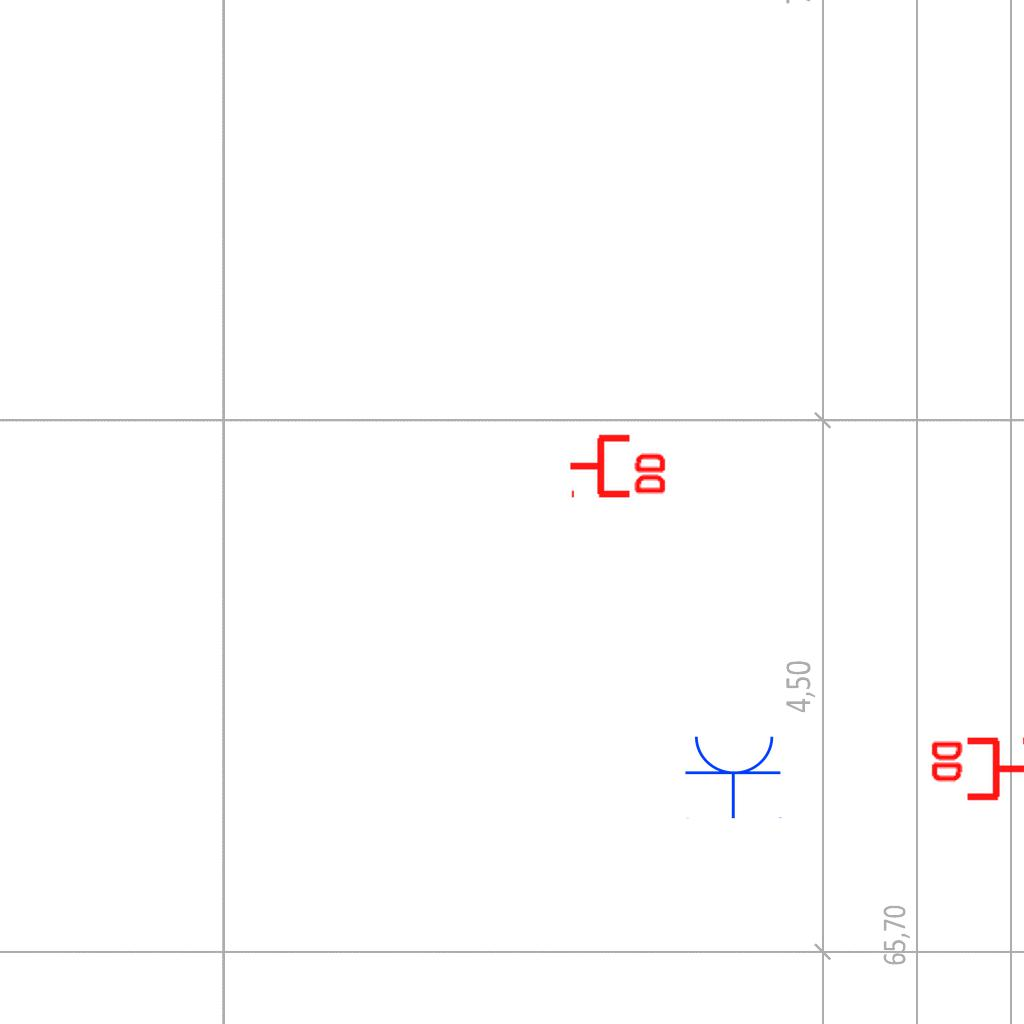Datenanschluss_zweifach: (567, 430, 670, 499), (927, 736, 1024, 805)
Schukosteckdose_einfach: (684, 732, 784, 819)
